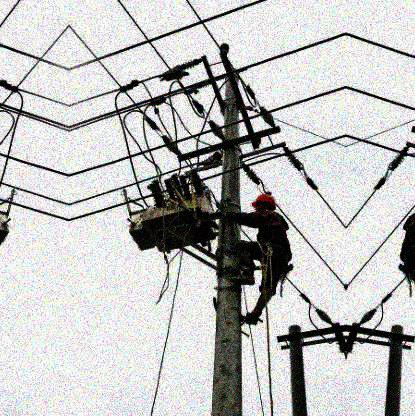helmet: (250, 192, 277, 213)
